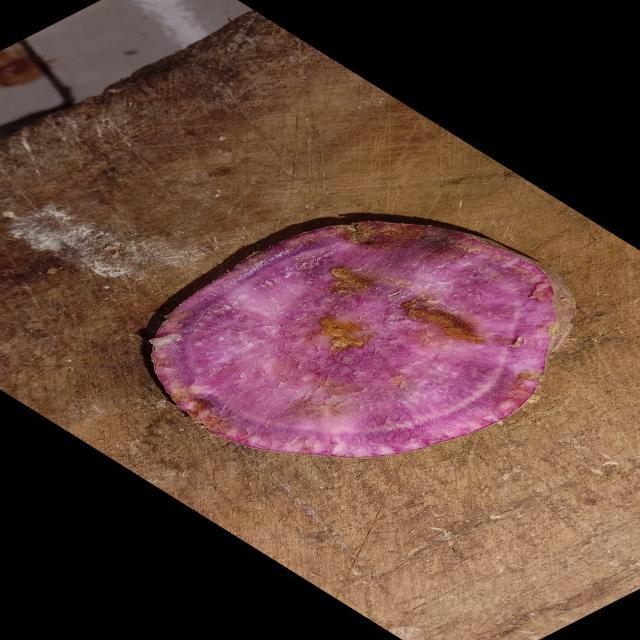Sick Sweet Potato_Tuber Rot: (151, 221, 573, 458)
